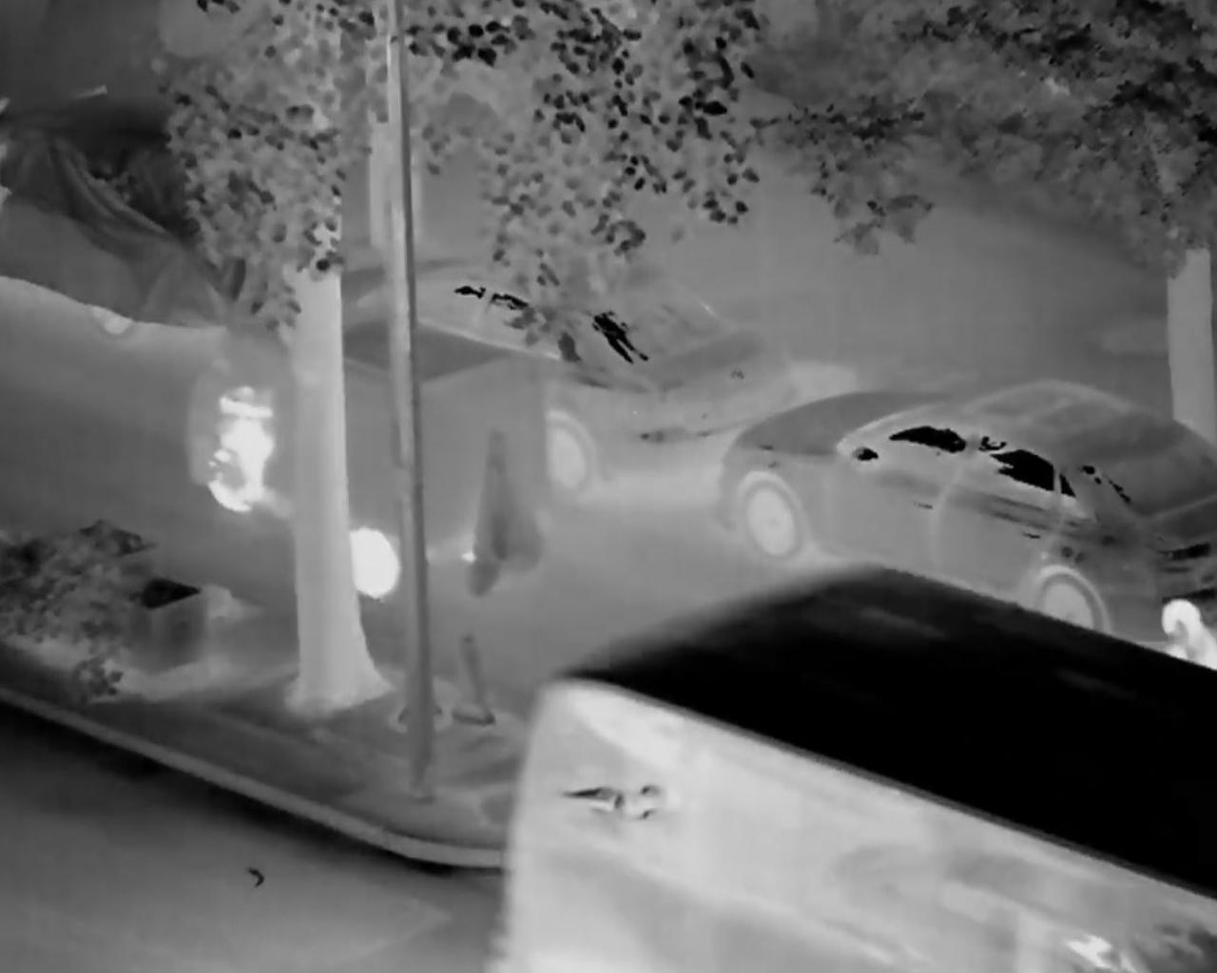person: (211, 366, 276, 510), (1150, 586, 1217, 670)
